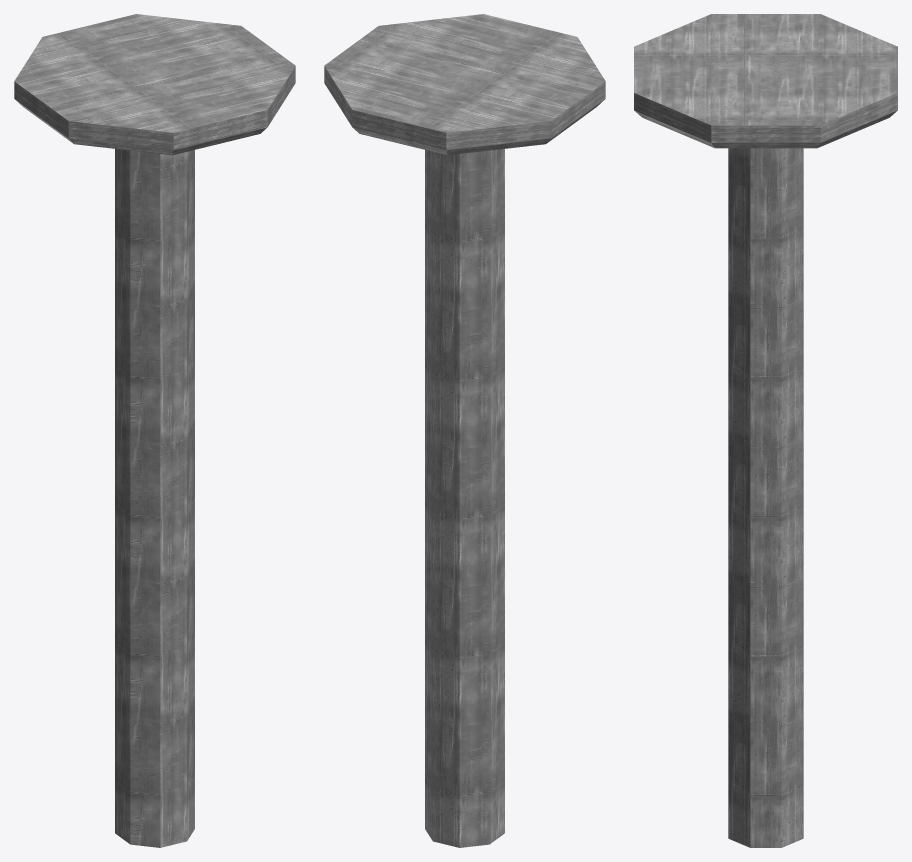
3 renders of one model, left to right at view 1: azimuth 30°, elevation 25°; view 2: azimuth 150°, elevation 25°; view 3: azimuth 270°, elevation 25°, orthographic.
Visible parts, largest first — view 1: Base_02; view 2: Base_02; view 3: Base_02.
Part boxes in pixels (<box>): Base_02: <box>14,14,295,847</box>; Base_02: <box>324,14,605,847</box>; Base_02: <box>634,14,897,847</box>.
Size of the model in its own units: 2730 by 8700 by 2730.
